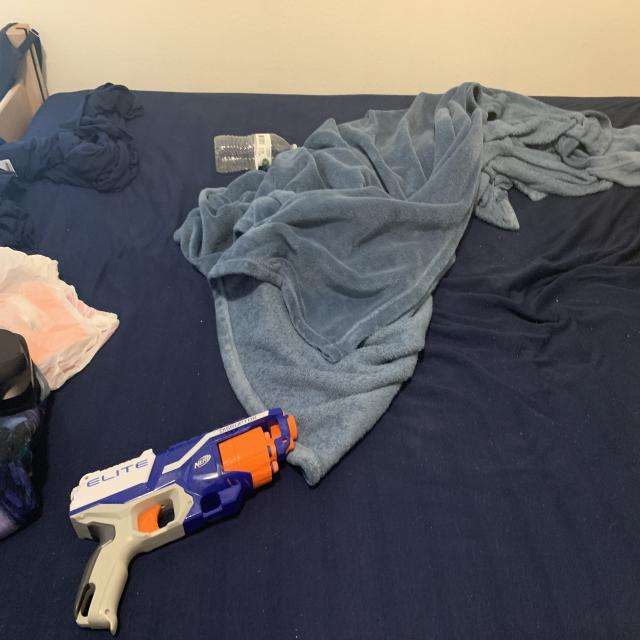nerf-maverik: (70, 396, 302, 640)
